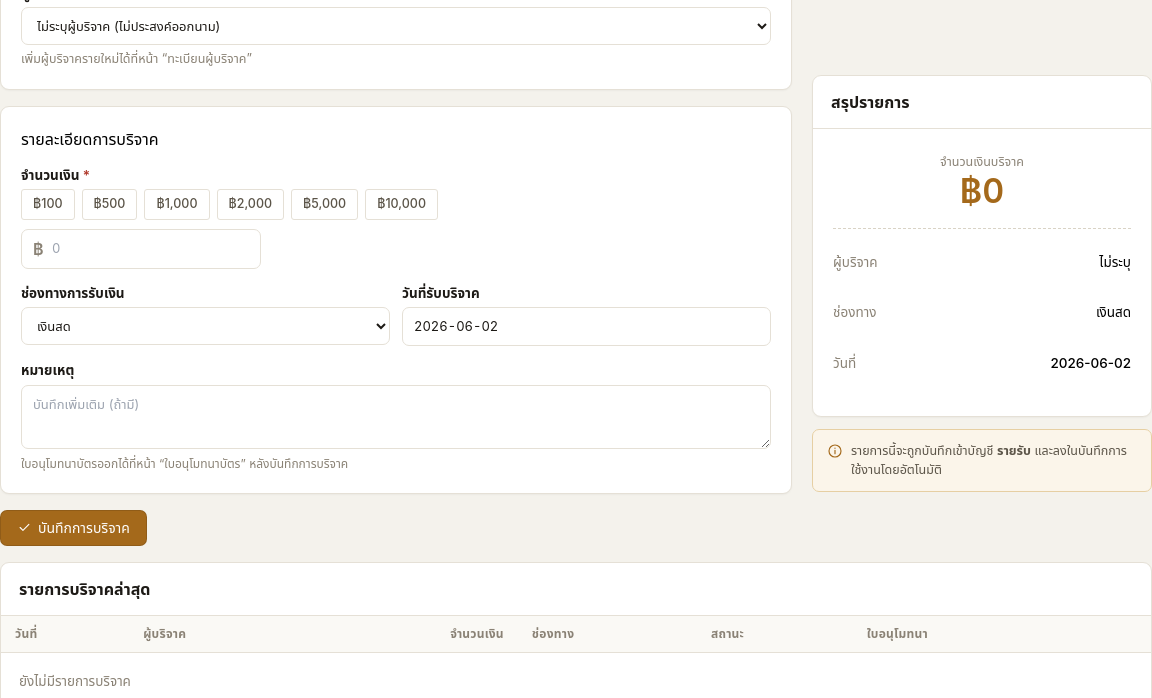
Test case: DesignDonations — wired to POST /donations › blocks submit and shows a field error when the amount is empty
(page scrolled)
Step 1. Click the button "บันทึกการบริจาค" → {"x": 73, "y": 528}, box x1=0 y1=510 x2=147 y2=546
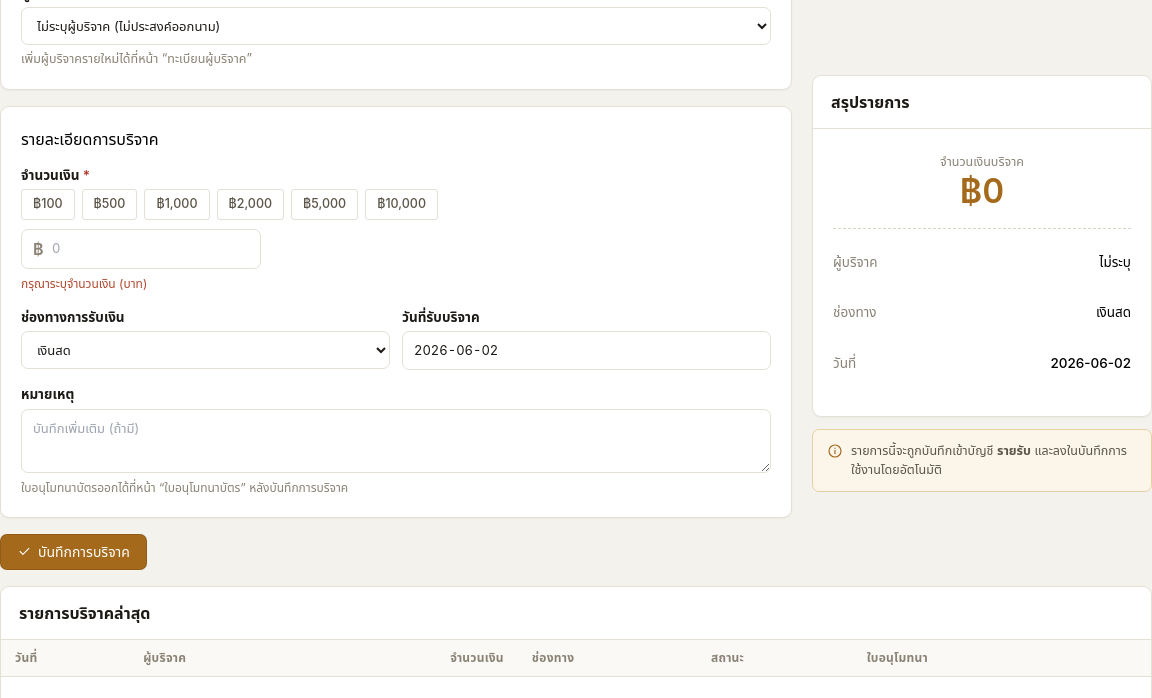
Expected: the text "กรุณาระบุจำนวนเงิน (บาท)" is shown, x1=21 y1=276 x2=147 y2=291
